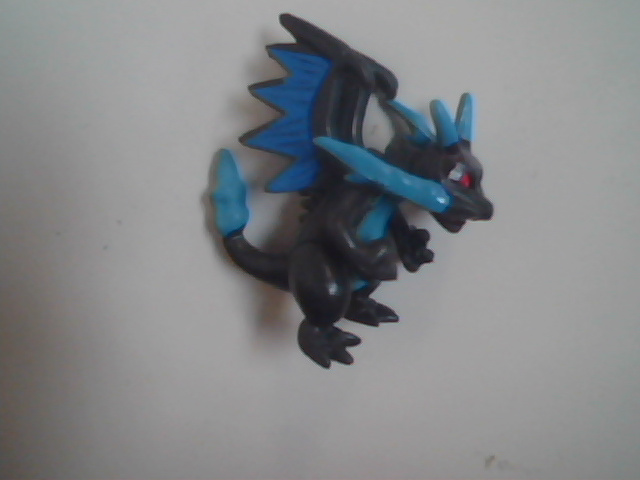charizard: (160, 16, 533, 384)
